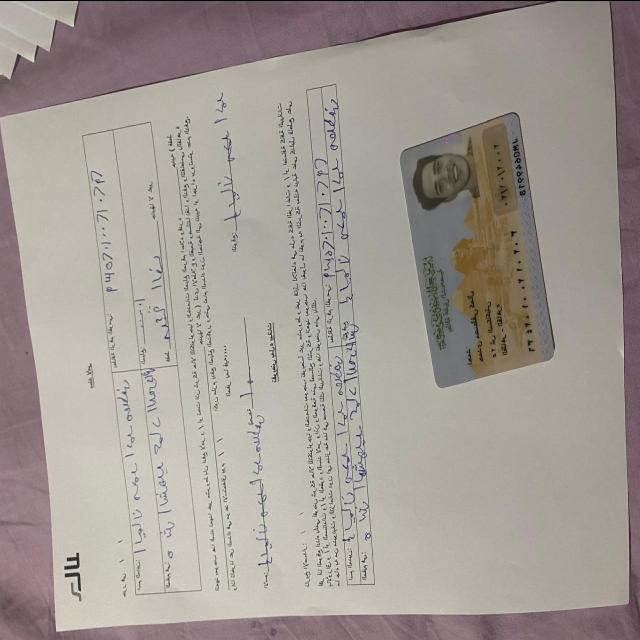ID-cards: (397, 99, 563, 398)
